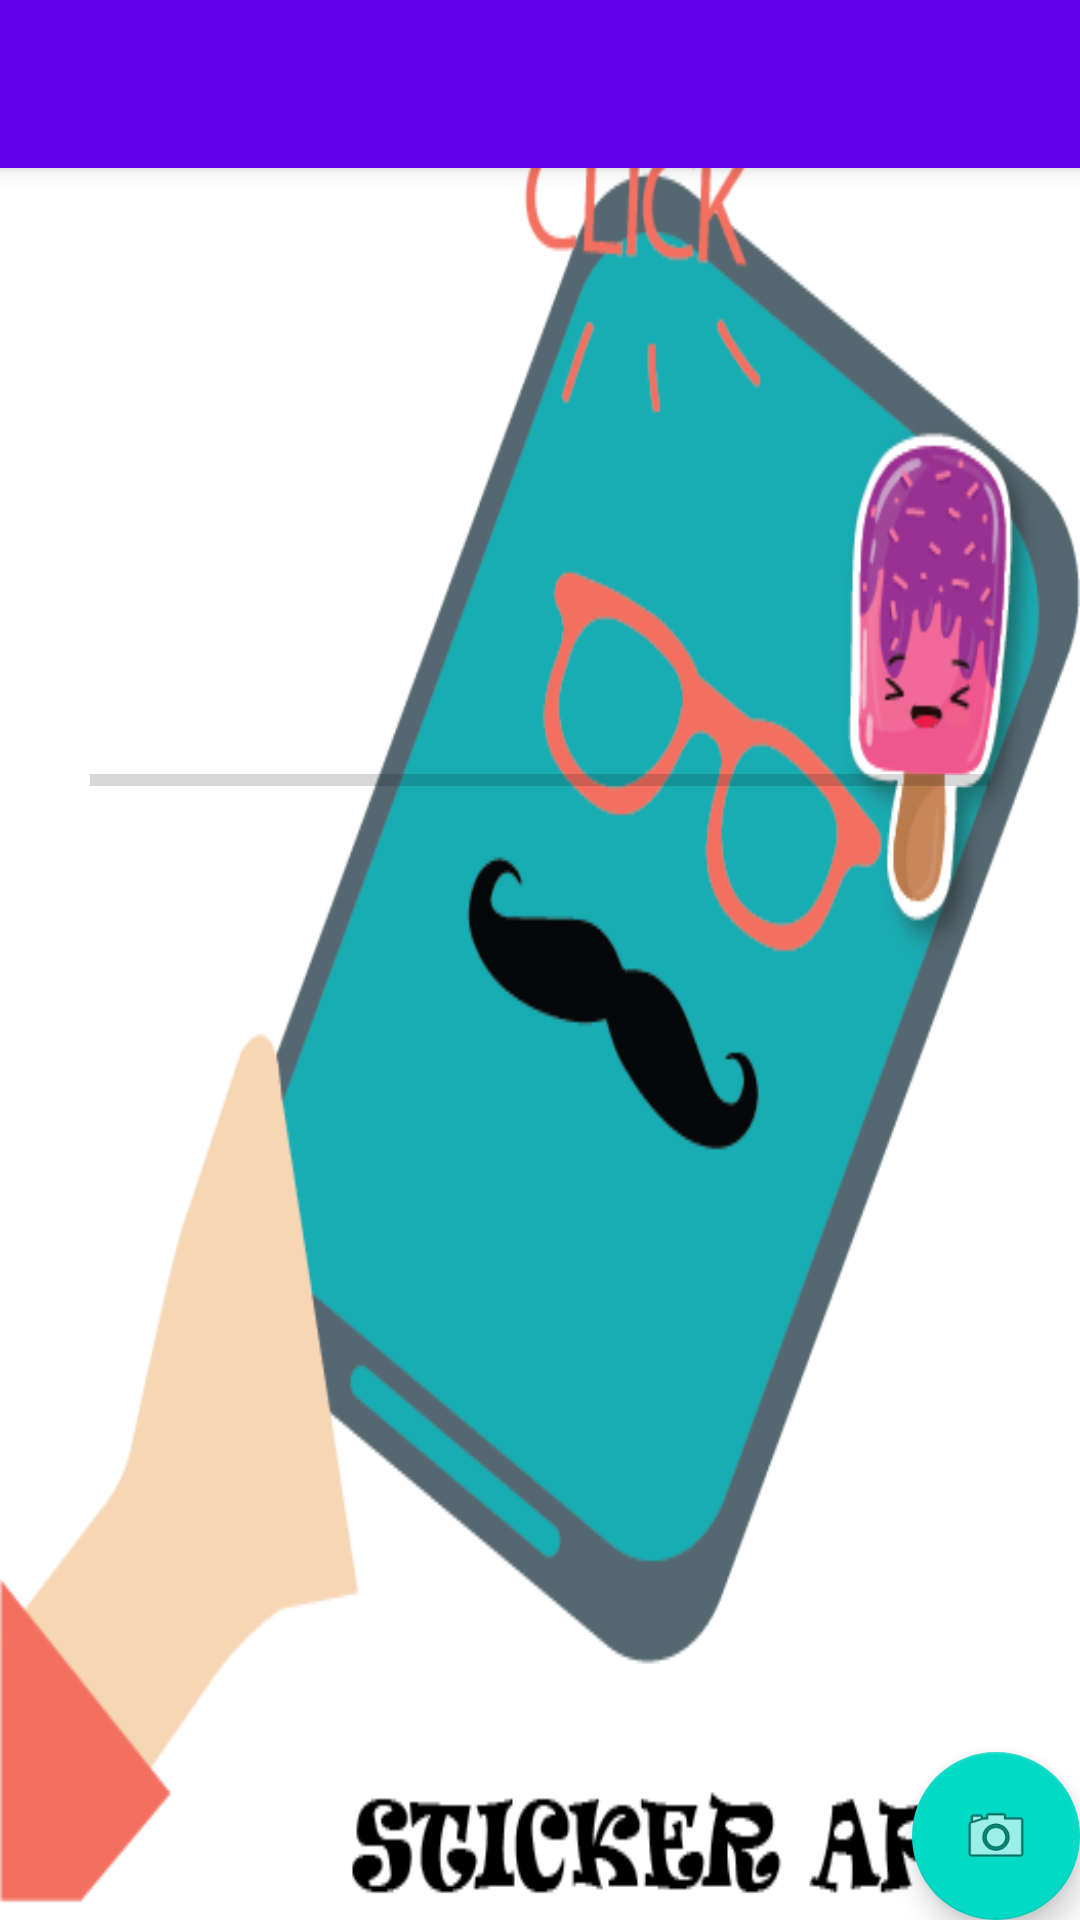

Icon bounding boxes for this 1080 x 1920 phone screenshot, format (x1, y1, x2, y2):
camera: (912, 1752, 1080, 1920)
